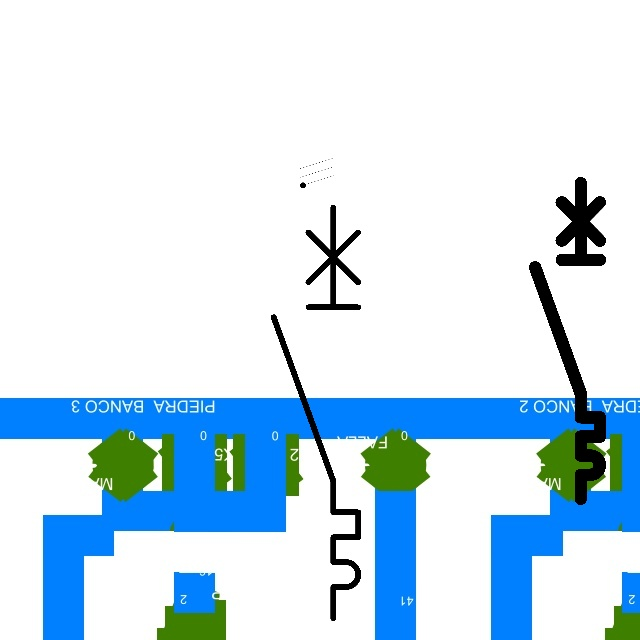interruptor_termomagnetico: (263, 196, 369, 628), (527, 175, 608, 507)
